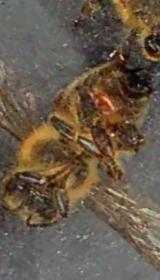varroa_mite: (82, 79, 122, 118)
